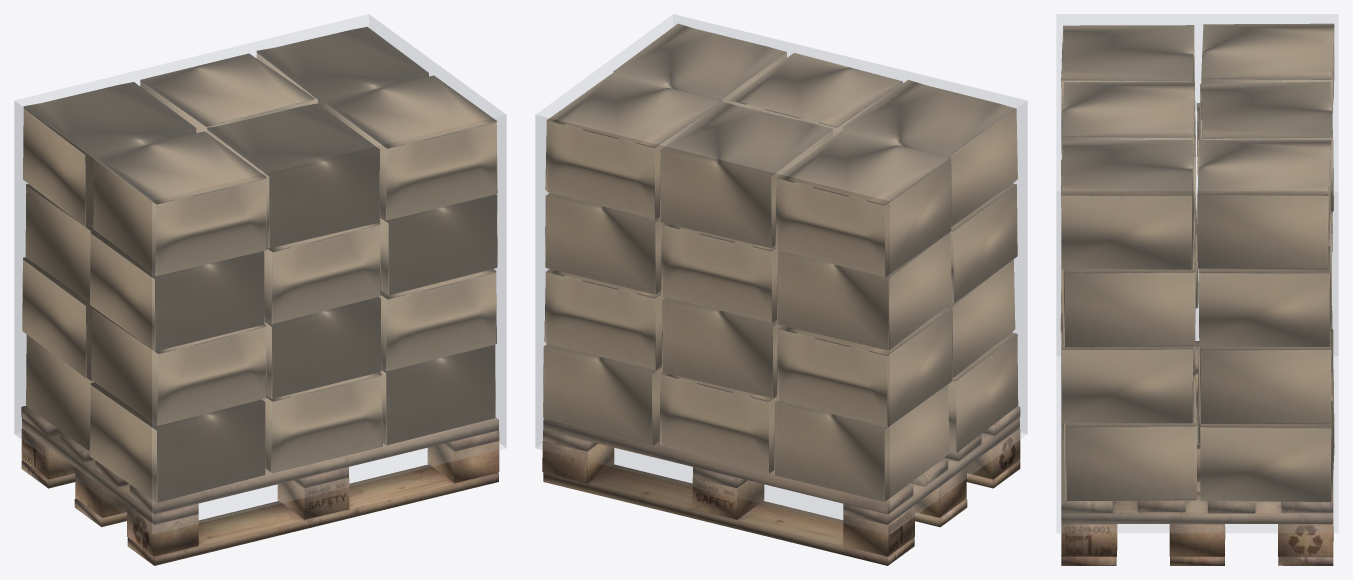
File: pallet_wrapped.glb
The picture shows the model from 3 angles, left to right: view 1: azimuth 30°, elevation 25°; view 2: azimuth 150°, elevation 25°; view 3: azimuth 270°, elevation 25°; orthographic projection. The views are drawn at different scales.
Visible parts, largest first — view 1: body; view 2: body; view 3: body.
Boxes of the visible parts, bbox=[...] form: body: bbox=[14, 14, 506, 565]; body: bbox=[535, 14, 1027, 565]; body: bbox=[1056, 14, 1338, 565].
Bounding box in the file's own units: 1.23 × 1.22 × 0.8291.
3 materials, 2 textured.
